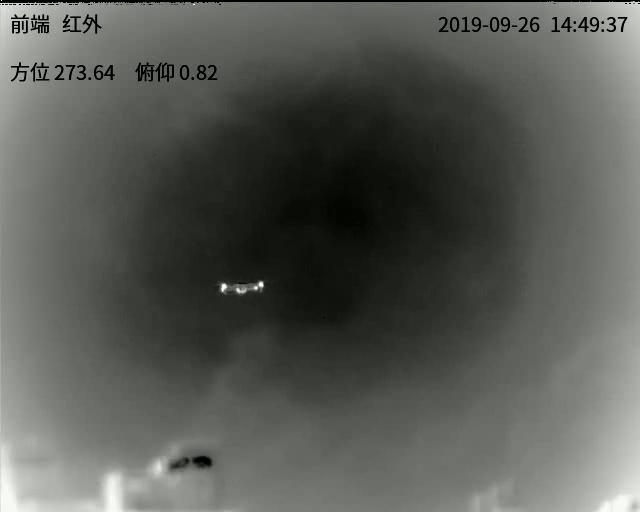DRONE: (218, 280, 265, 296)
